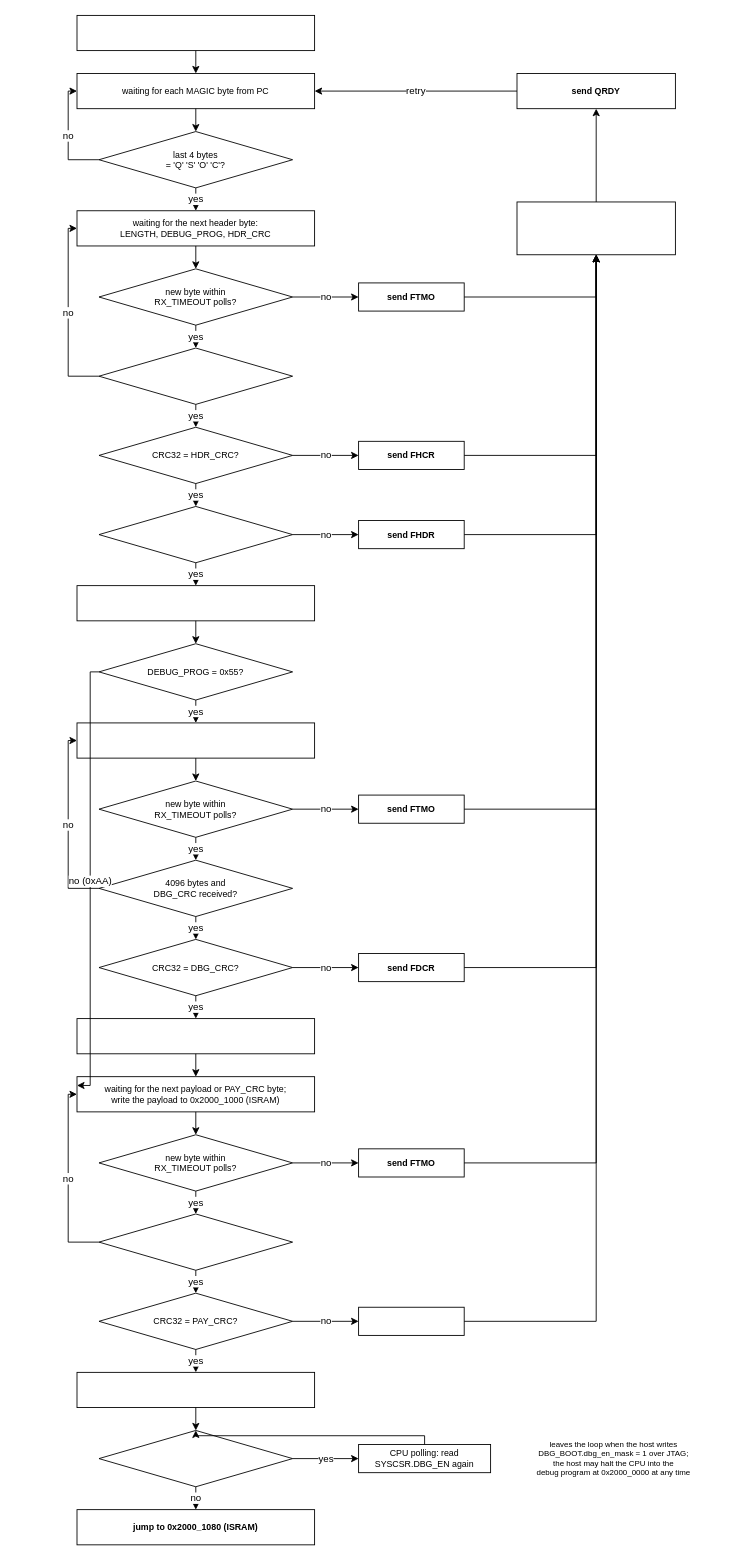
This 743x1560 diagram has some shape labels left out. Each missing label, with the centre of its shape:
12 header bytes received?: pixel 195 375
all payload and PAY_CRC bytes received?: pixel 195 1241
clear RX FIFO, discard bytes until quiet for DRAIN_IDLE polls: pixel 595 228
init UART0: pixel 195 33
LENGTH and DEBUG_PROG valid? (Table 6-1): pixel 195 534
read SYSCSR.DBG_EN: = 1?: pixel 195 1458
send ACKD: pixel 195 1036
send ACKH: pixel 195 603
send ACKP: pixel 195 1389
send FPCR: pixel 411 1320
waiting for the next debug program or DBG_CRC byte; write it to 0x2000_0000: pixel 195 740
